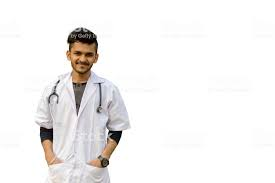Indian_Male: (68, 30, 99, 74)
